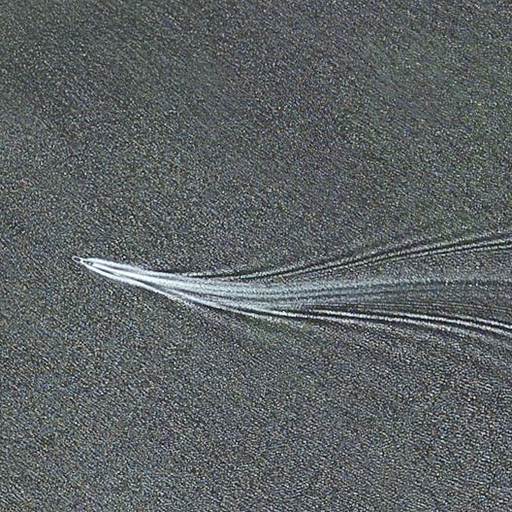ship: (67, 252, 90, 268)
